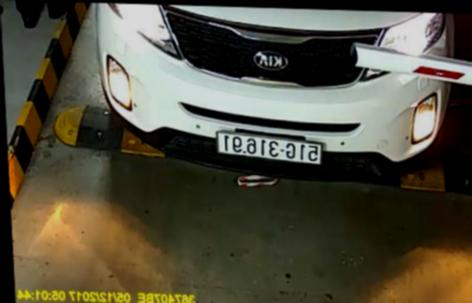License_Plate: (217, 132, 323, 166)
